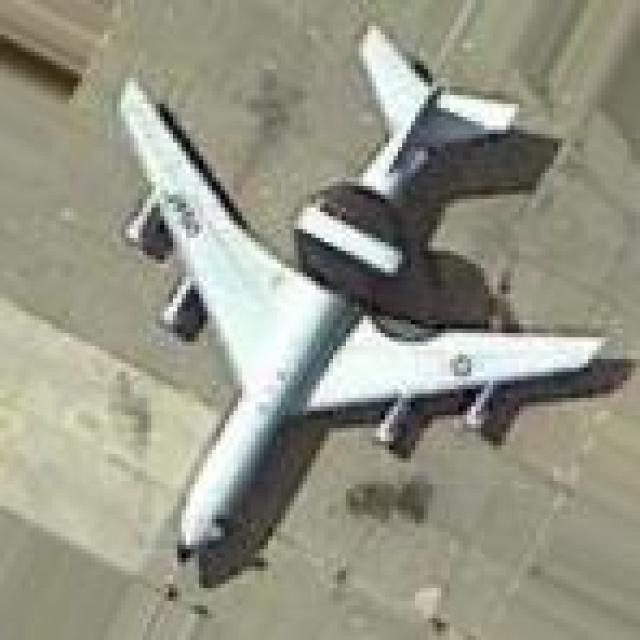E-3_TopDown: (104, 21, 636, 584)
